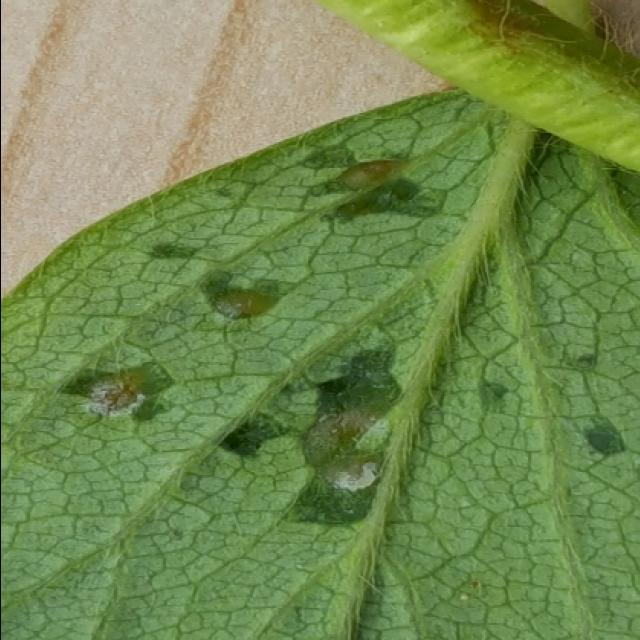Angular Leafspot: (47, 136, 634, 547)
